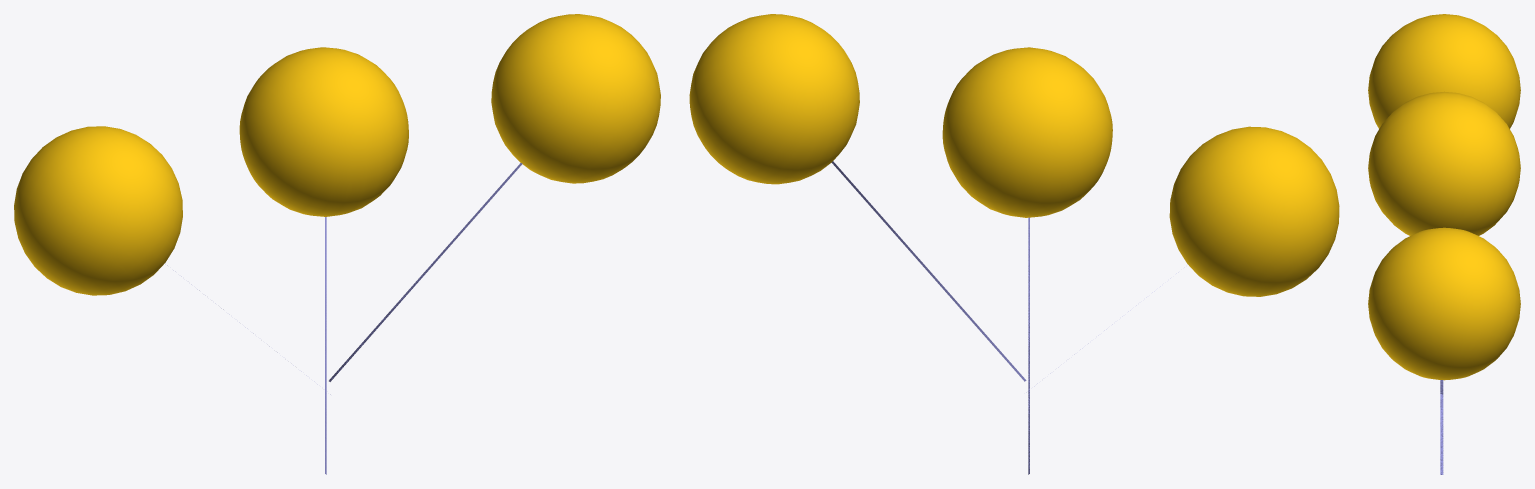
The model's file is globos.obj.
3 views of the same model, side by side, from view 1: azimuth 30°, elevation 25°; view 2: azimuth 150°, elevation 25°; view 3: azimuth 270°, elevation 25° (orthographic). The views are drawn at different scales.
Parts seen in each view (by area): view 1: Sphere001, Sphere004, Sphere003, Box004; view 2: Sphere001, Sphere004, Sphere003, Box004; view 3: Sphere004, Sphere001, Sphere003, Box001.
Part boxes in pixels (x1,y1,x2,y2): Sphere001: (239,47,408,216); Sphere004: (491,14,660,183); Sphere003: (14,126,182,295); Box004: (329,163,522,381); Sphere001: (942,47,1112,217); Sphere004: (689,14,859,184); Sphere003: (1169,126,1339,296); Box004: (831,161,1026,381); Sphere004: (1368,227,1520,380); Sphere001: (1368,91,1520,235); Sphere003: (1368,14,1520,128); Box001: (1440,394,1443,474).
Size of the model in its own units: 8.8 by 5.63 by 2.07.
